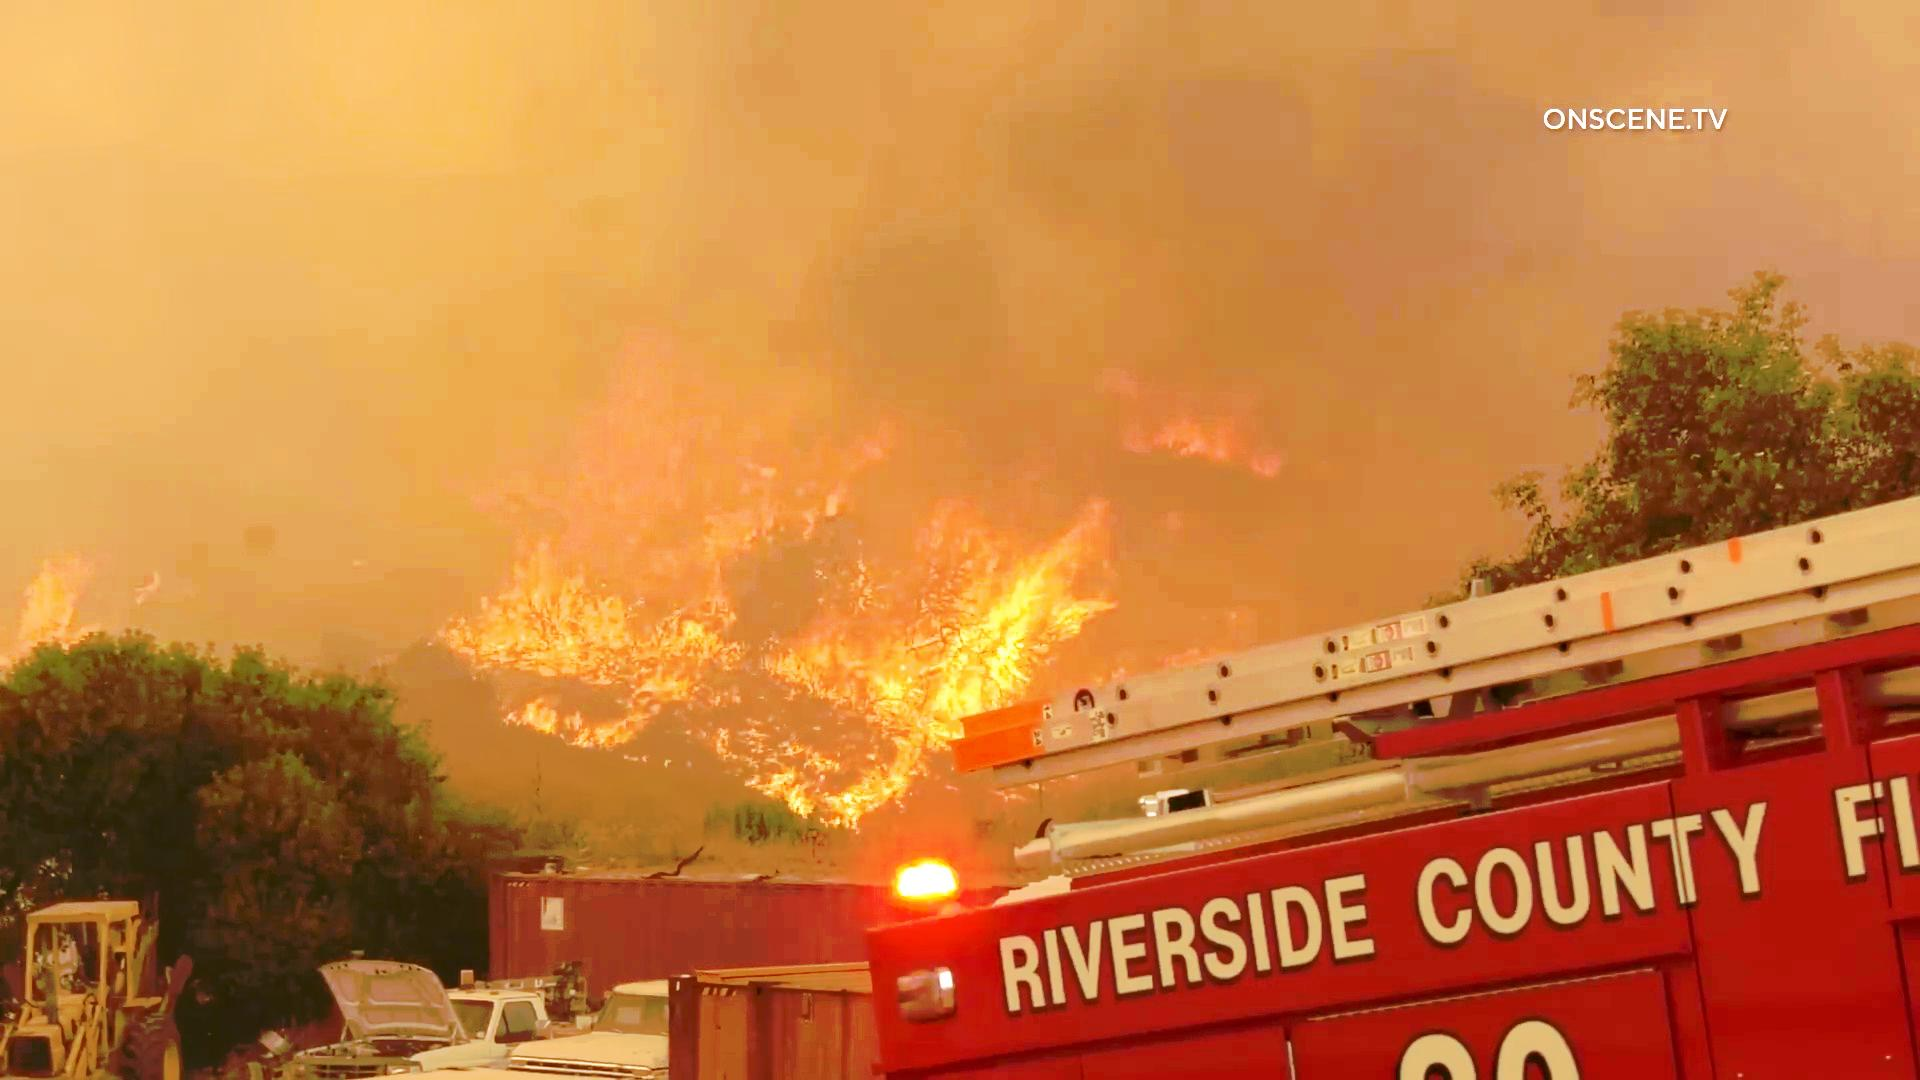fire: (485, 326, 1091, 806)
